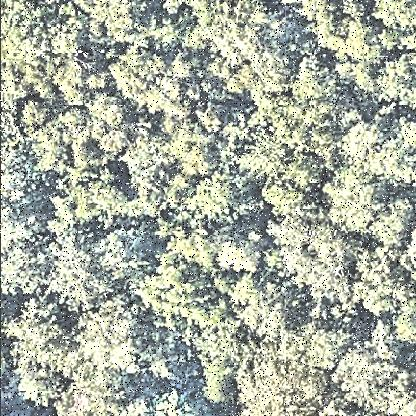tree-top: (120, 114, 224, 222), (188, 1, 302, 97), (135, 230, 229, 338), (242, 332, 338, 416), (49, 222, 131, 318), (110, 43, 198, 122), (11, 310, 77, 414), (270, 217, 355, 297), (72, 295, 149, 381), (3, 1, 93, 73), (258, 81, 350, 149), (58, 95, 134, 173), (337, 341, 415, 416), (343, 248, 416, 322), (1, 203, 58, 297), (321, 1, 379, 91), (320, 163, 384, 236), (47, 169, 133, 223), (99, 1, 189, 49), (237, 283, 295, 345), (216, 224, 272, 284), (371, 116, 416, 189), (375, 51, 416, 115), (187, 176, 245, 219), (371, 199, 415, 255), (237, 139, 289, 177), (377, 1, 416, 38)
